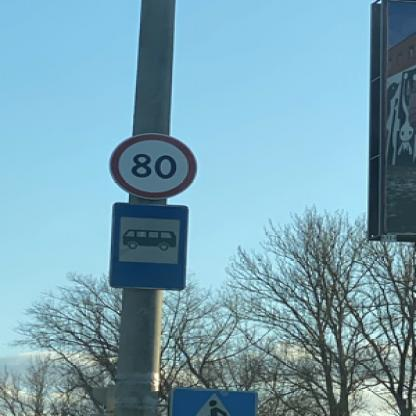Speed Limit 80: (109, 132, 197, 200)
